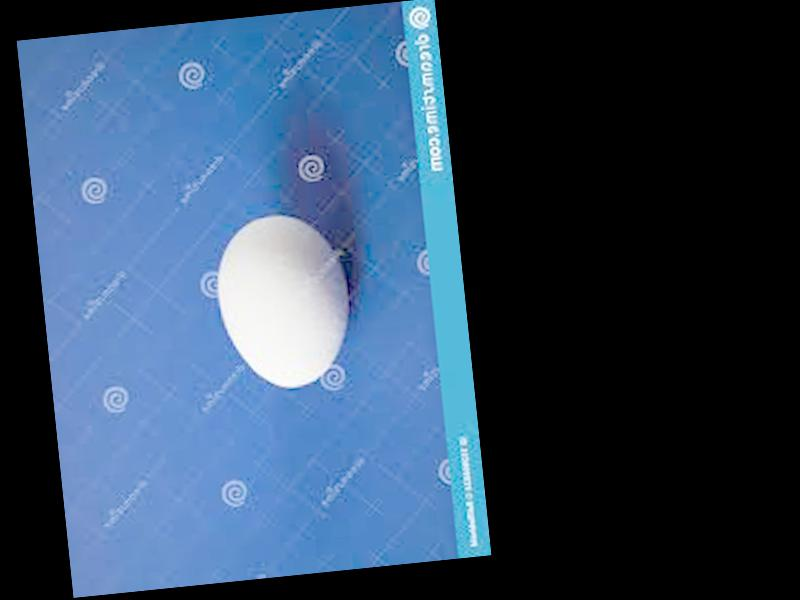Eggs: (212, 208, 356, 394)
